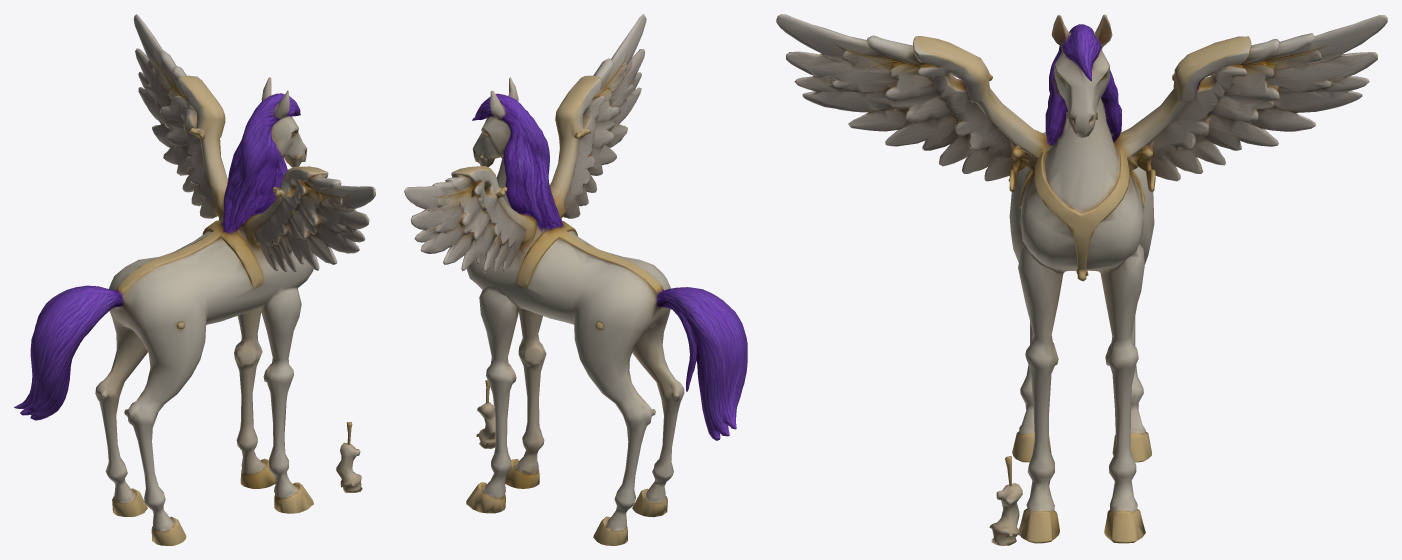
File: r33-pegasus.glb
3 renders of one model, left to right at view 1: azimuth 30°, elevation 25°; view 2: azimuth 150°, elevation 25°; view 3: azimuth 270°, elevation 25°, orthographic. The views are drawn at different scales.
Visible parts, largest first — view 1: tripo_node_971153aa-d491-4d15-9bc7-c6d4e376142d; view 2: tripo_node_971153aa-d491-4d15-9bc7-c6d4e376142d; view 3: tripo_node_971153aa-d491-4d15-9bc7-c6d4e376142d.
Boxes of the visible parts, x1,y1,x2,y2 form: tripo_node_971153aa-d491-4d15-9bc7-c6d4e376142d: (14,14,375,545); tripo_node_971153aa-d491-4d15-9bc7-c6d4e376142d: (404,14,747,545); tripo_node_971153aa-d491-4d15-9bc7-c6d4e376142d: (776,14,1387,545).
Size of the model in its own units: 0.7246 by 0.9395 by 0.998.
Materials: 1 (1 with a texture image).
